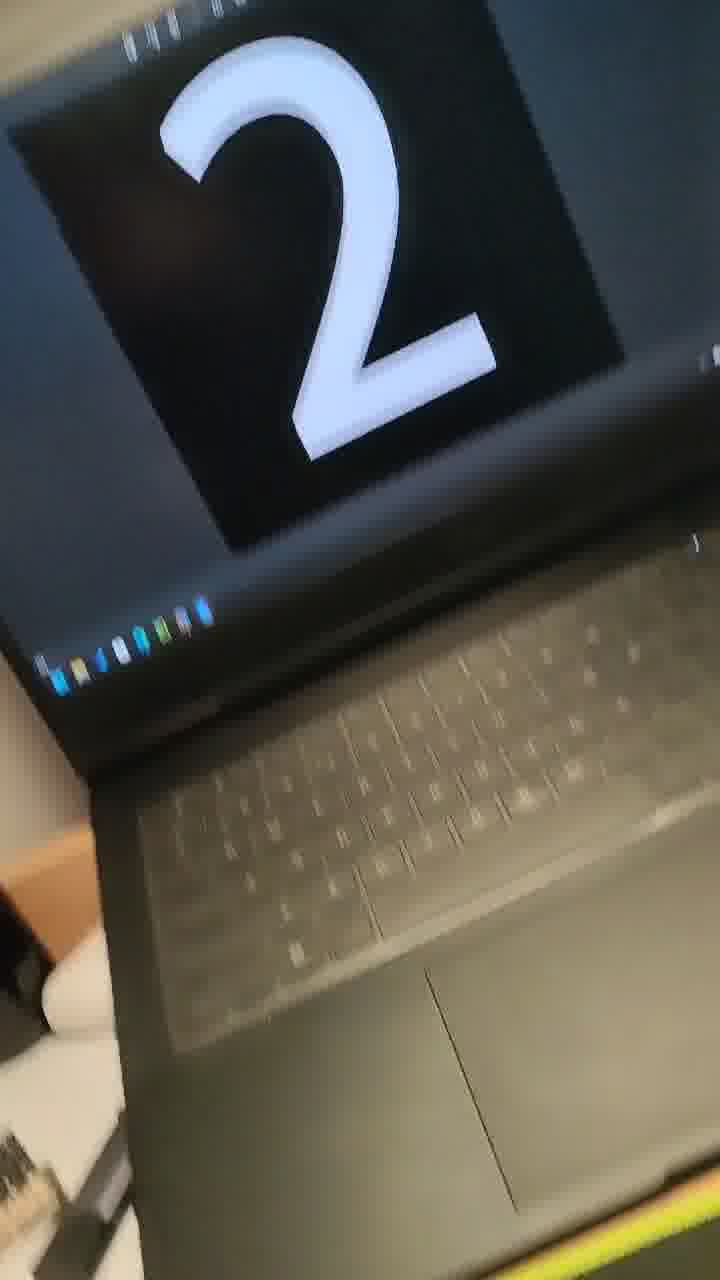two: (139, 1, 571, 570)
